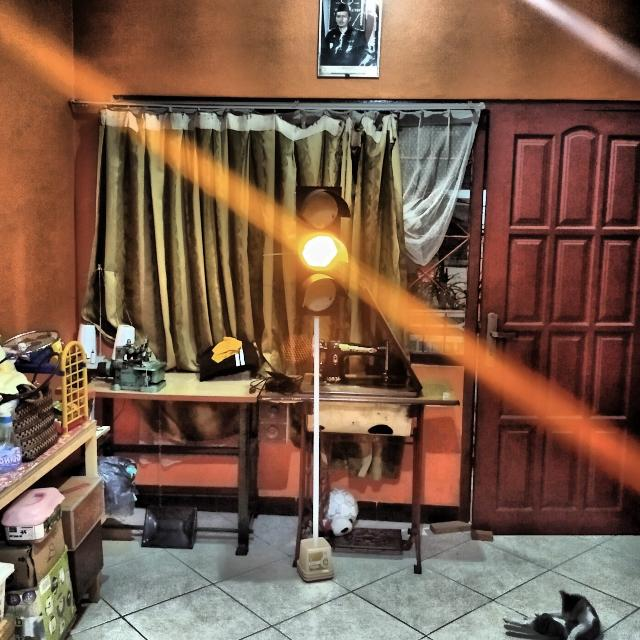yellow: (296, 186, 350, 316)
